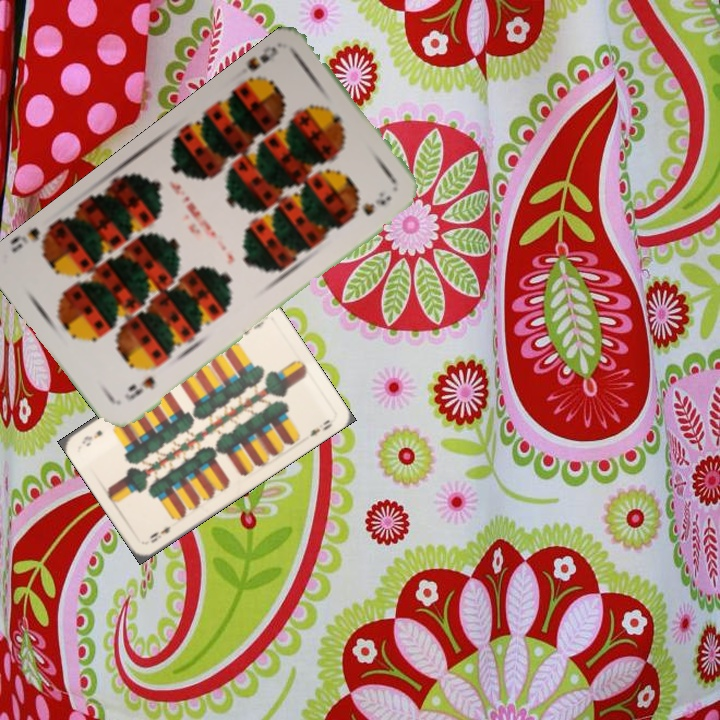E9: (145, 522, 173, 546)
S9: (239, 42, 281, 90), (120, 372, 158, 403)
